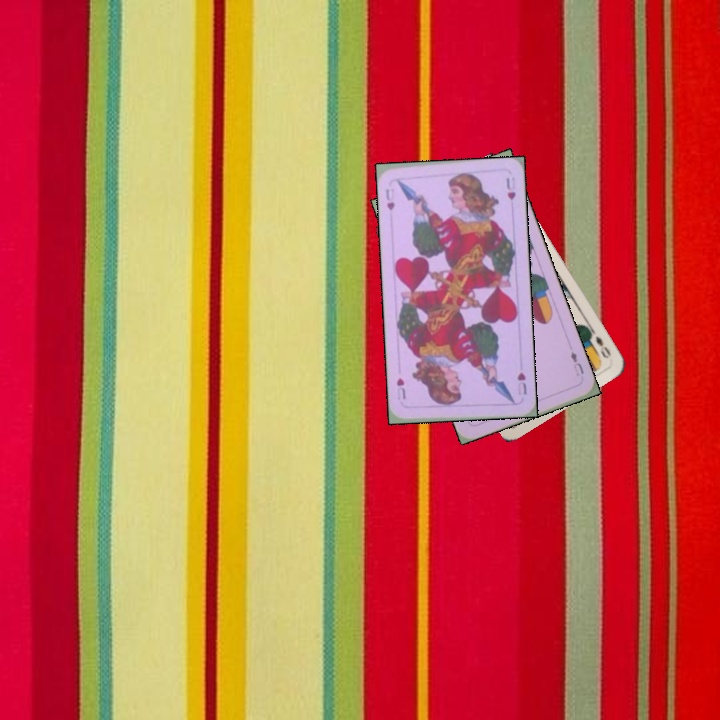EO: (586, 327, 613, 361)
EU: (566, 347, 587, 379)
HU: (513, 368, 529, 398), (381, 185, 397, 213)
